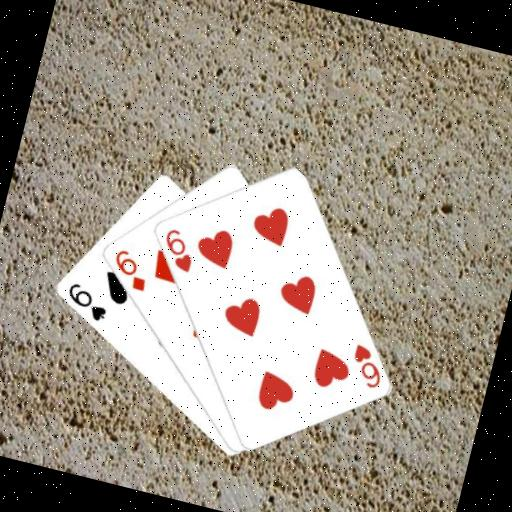6D: (105, 244, 154, 294)
6H: (343, 340, 390, 393), (155, 223, 201, 275)
6S: (60, 278, 113, 325)
